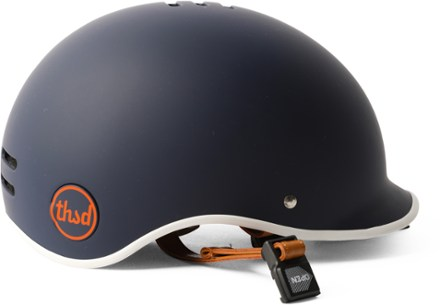with_helmet: (2, 2, 422, 293)
